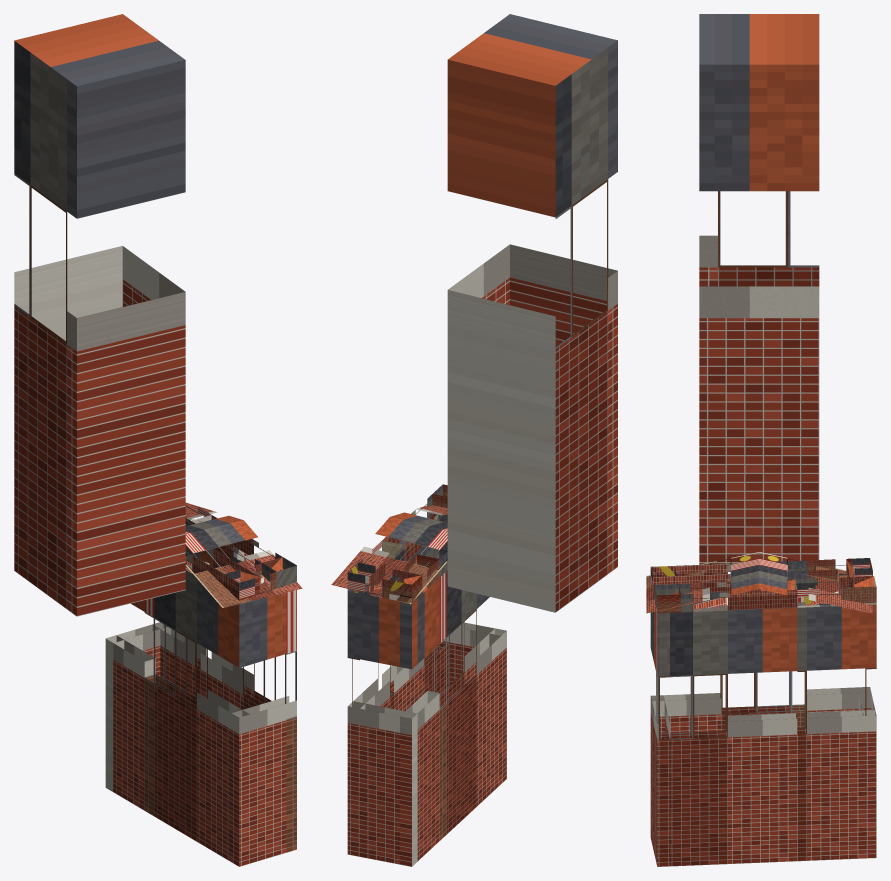
3 renders of one model, left to right at view 1: azimuth 30°, elevation 25°; view 2: azimuth 150°, elevation 25°; view 3: azimuth 270°, elevation 25°, orthographic. The views are drawn at different scales.
Visible parts, largest first — view 1: 238572335__chimney_0_xb, 238572335__wall_4_xb, 238572335__wall_5_xb, 238572335__wall_3_xb, 238572335__wall_0_xb, 238572335_roof_-1_xb, 238572335__wall_2_xb, 238572335__wall_1_xb, 238572335__cornice_4, 238572335__cornice_0, 238572335__cornice_5, 238572335_roof_1_xb; view 2: 238572335__chimney_0_xb, 238572335__wall_2_xb, 238572335__wall_4_xb, 238572335__wall_3_xb, 238572335_roof_1_xb, 238572335__wall_0_xb, 238572335__cornice_2, 238572335__wall_5_xb, 238572335__cornice_1, 238572335__wall_1_xb, 238572335__cornice_3, 238572335_roof_-1_xb (+1 smaller); view 3: 238572335__chimney_0_xb, 238572335__wall_0_xb, 238572335__wall_1_xb, 238572335__wall_5_xb, 238572335__wall_4_xb, 238572335__cornice_0, 238572335_roof_1_xb, 238572335__cornice_4, 238572335_roof_-1_xb, 238572335__cornice_1, 238572335__wall_3_xb, 238572335__cornice_3 (+1 smaller).
Part boxes in pixels (left/top/right/bottom): 238572335__chimney_0_xb: left=14, top=14, right=185, bottom=616; 238572335__wall_4_xb: left=144, top=564, right=249, bottom=866; 238572335__wall_5_xb: left=232, top=592, right=296, bottom=866; 238572335__wall_3_xb: left=113, top=600, right=155, bottom=810; 238572335__wall_0_xb: left=200, top=550, right=296, bottom=852; 238572335_roof_-1_xb: left=185, top=520, right=302, bottom=607; 238572335__wall_2_xb: left=105, top=622, right=171, bottom=791; 238572335__wall_1_xb: left=152, top=550, right=206, bottom=697; 238572335__cornice_4: left=185, top=545, right=259, bottom=600; 238572335__cornice_0: left=191, top=515, right=296, bottom=588; 238572335__cornice_5: left=225, top=557, right=282, bottom=599; 238572335_roof_1_xb: left=185, top=502, right=243, bottom=533; 238572335__chimney_0_xb: left=447, top=14, right=617, bottom=612; 238572335__wall_2_xb: left=347, top=589, right=417, bottom=866; 238572335__wall_4_xb: left=434, top=571, right=506, bottom=840; 238572335__wall_3_xb: left=400, top=578, right=439, bottom=866; 238572335_roof_1_xb: left=331, top=517, right=447, bottom=604; 238572335__wall_0_xb: left=382, top=513, right=448, bottom=711; 238572335__cornice_2: left=347, top=562, right=422, bottom=602; 238572335__wall_5_xb: left=437, top=622, right=500, bottom=684; 238572335__cornice_1: left=347, top=540, right=404, bottom=595; 238572335__wall_1_xb: left=347, top=657, right=394, bottom=709; 238572335__cornice_3: left=389, top=554, right=439, bottom=602; 238572335_roof_-1_xb: left=390, top=505, right=447, bottom=530; 238572335__chimney_0_xb: left=699, top=14, right=819, bottom=564; 238572335__wall_0_xb: left=656, top=605, right=797, bottom=866; 238572335__wall_1_xb: left=797, top=602, right=876, bottom=861; 238572335__wall_5_xb: left=650, top=611, right=669, bottom=866; 238572335__wall_4_xb: left=652, top=592, right=807, bottom=733; 238572335__cornice_0: left=655, top=579, right=797, bottom=612; 238572335_roof_1_xb: left=759, top=552, right=872, bottom=613; 238572335__cornice_4: left=650, top=560, right=808, bottom=593; 238572335_roof_-1_xb: left=646, top=552, right=759, bottom=613; 238572335__cornice_1: left=795, top=576, right=876, bottom=607; 238572335__wall_3_xb: left=807, top=601, right=871, bottom=712; 238572335__cornice_3: left=806, top=558, right=872, bottom=579.
Bounding box in the file's own units: 0.2738 × 1.05 × 0.2878.
1 material, 1 textured.
